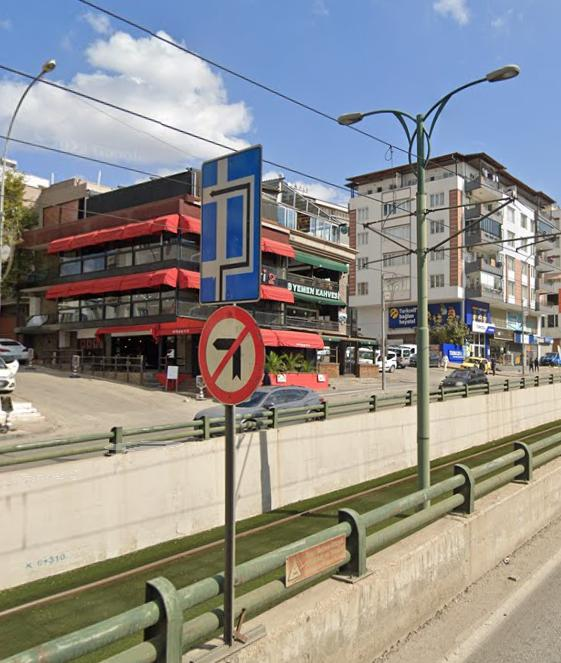leftturnsareforbidden: (202, 305, 263, 404)
